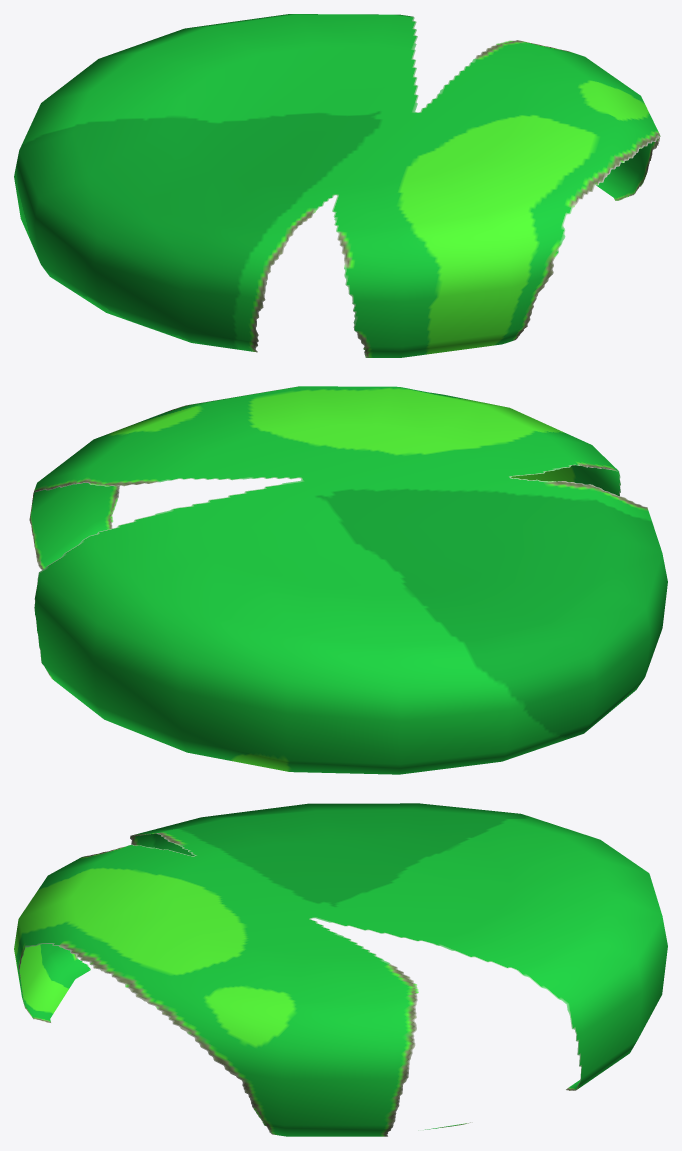
The model's file is Patty.fbx.
The picture shows the model from 3 angles, top to bottom: view 1: azimuth 30°, elevation 25°; view 2: azimuth 150°, elevation 25°; view 3: azimuth 270°, elevation 25°; orthographic projection. The views are drawn at different scales.
Visible parts, largest first — view 1: Patty; view 2: Patty; view 3: Patty.
Part boxes in pixels (<box>): Patty: <box>14,14,660,357</box>; Patty: <box>29,386,667,774</box>; Patty: <box>14,803,667,1136</box>.
Bounding box in the file's own units: 65.53 × 15.52 × 67.09.
